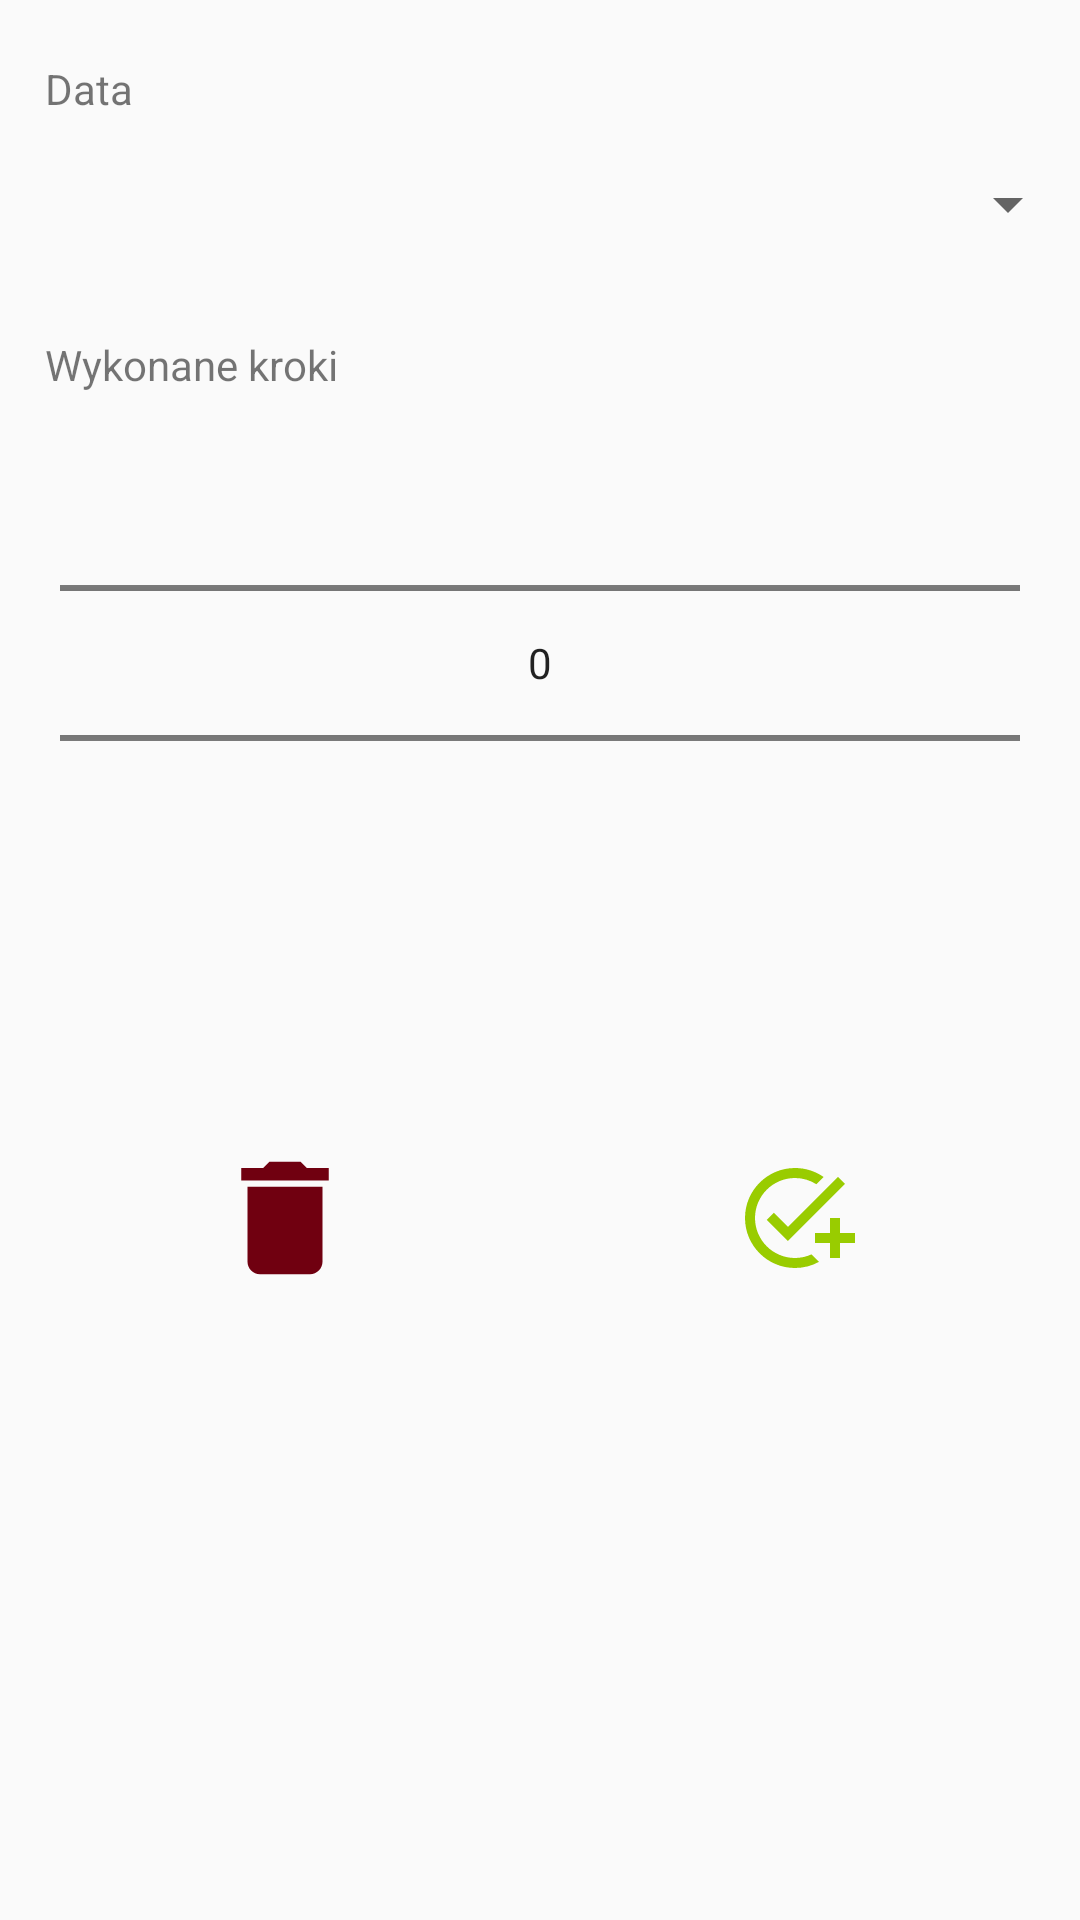

Named icons in this screenshot (1080 × 1920) and their bounding boxes, (x1, y1, x2, y2):
add result: (745, 1168, 855, 1268)
delete: (241, 1161, 329, 1275)
